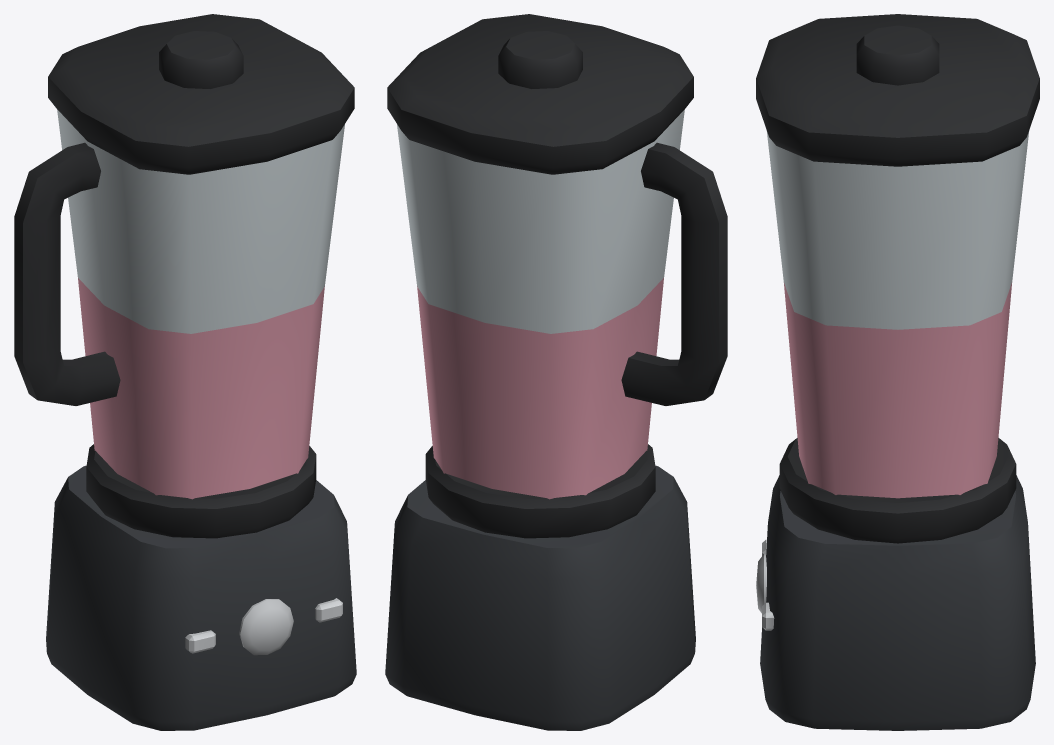
Rendered from blender.glb.
3 renders of one model, left to right at view 1: azimuth 30°, elevation 25°; view 2: azimuth 150°, elevation 25°; view 3: azimuth 270°, elevation 25°, orthographic.
Parts seen in each view (by area): view 1: blender; view 2: blender; view 3: blender.
Part boxes in pixels (<box>): blender: <box>14,14,356,730</box>; blender: <box>385,14,727,730</box>; blender: <box>756,14,1039,730</box>.
Bounding box in the file's own units: 0.1812 × 0.356 × 0.144.
